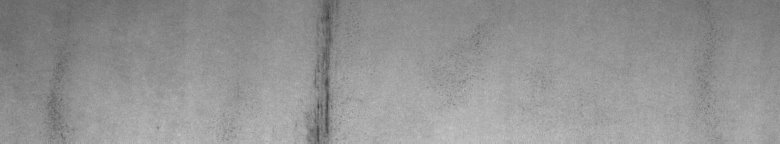hd: (303, 4, 344, 136)
